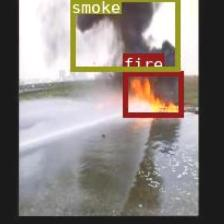fire: (122, 71, 182, 116)
smoke: (69, 0, 178, 70)
